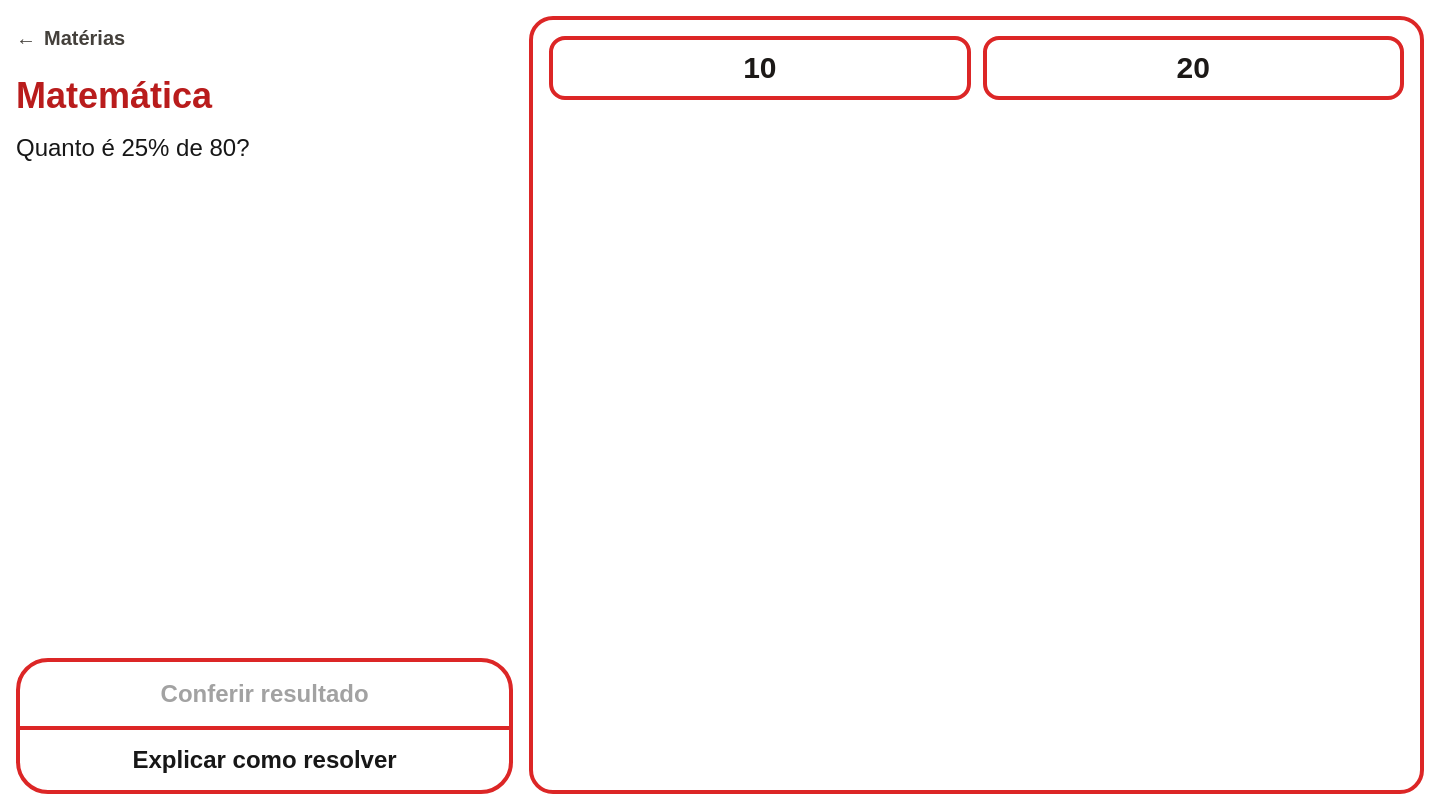
Test case: multiple-choice question › a wrong answer reveals the correct answer immediately
Click the button "10": {"x": 760, "y": 68} [549, 36, 970, 100]
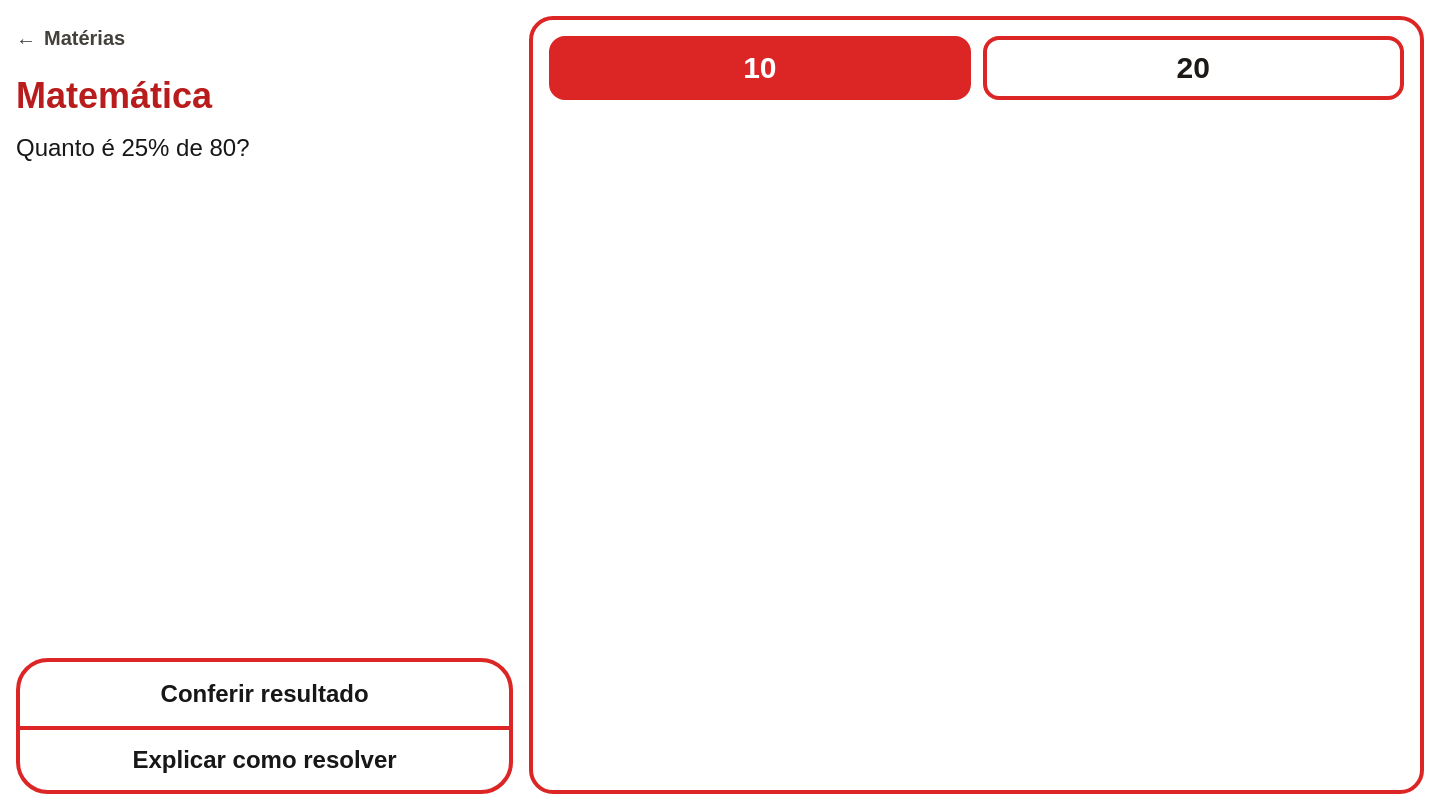
Click the button "Conferir resultado": {"x": 265, "y": 694} [20, 662, 509, 726]
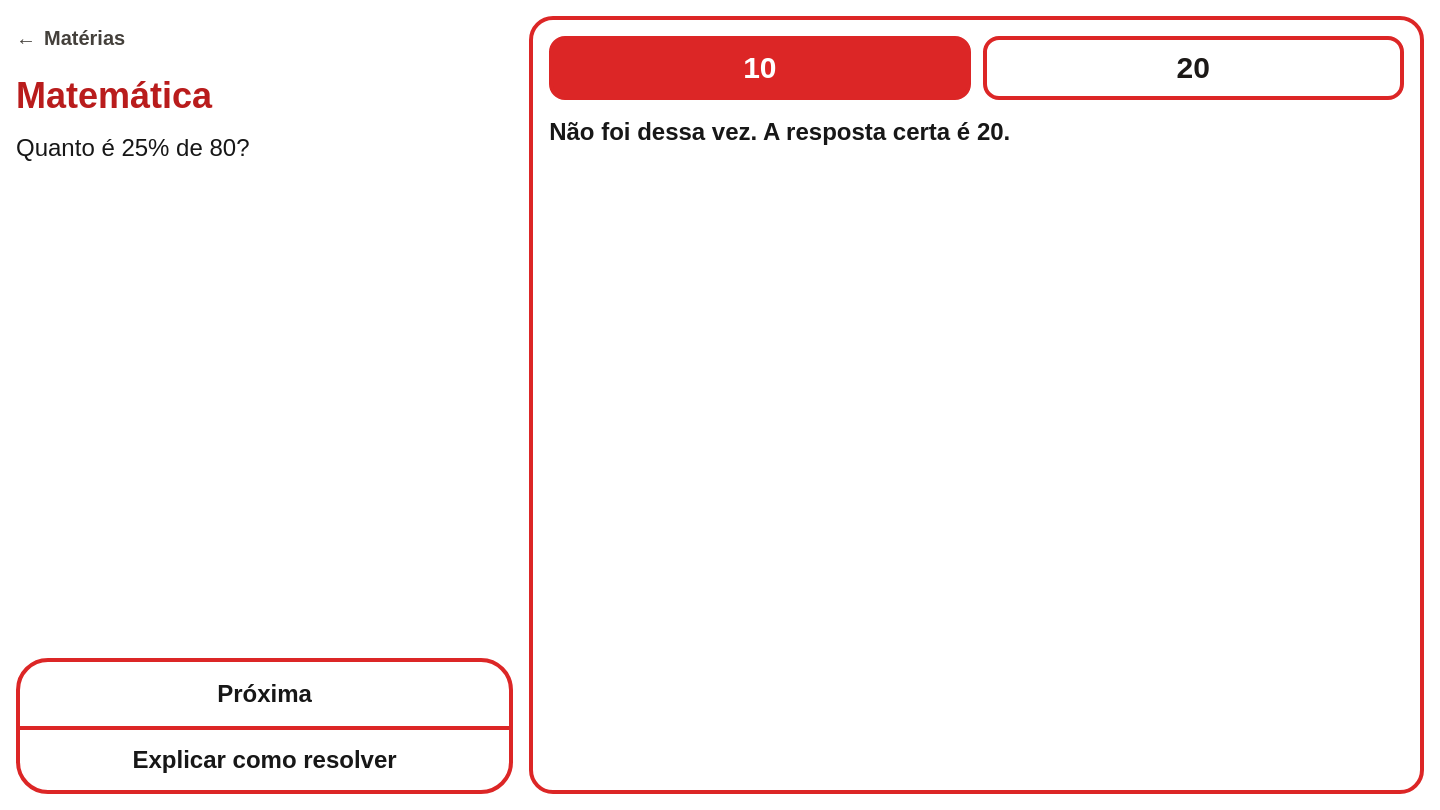
Expected: the message shows "A resposta certa é 20.", [549, 118, 1010, 145]
